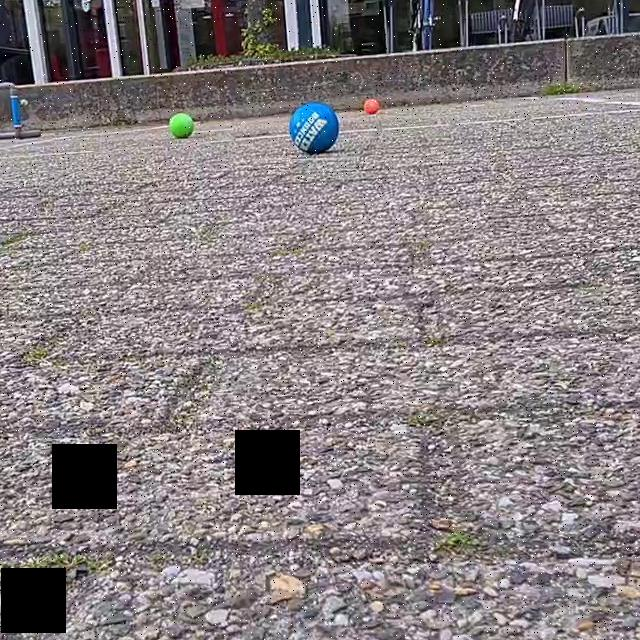ball: (168, 112, 195, 142)
